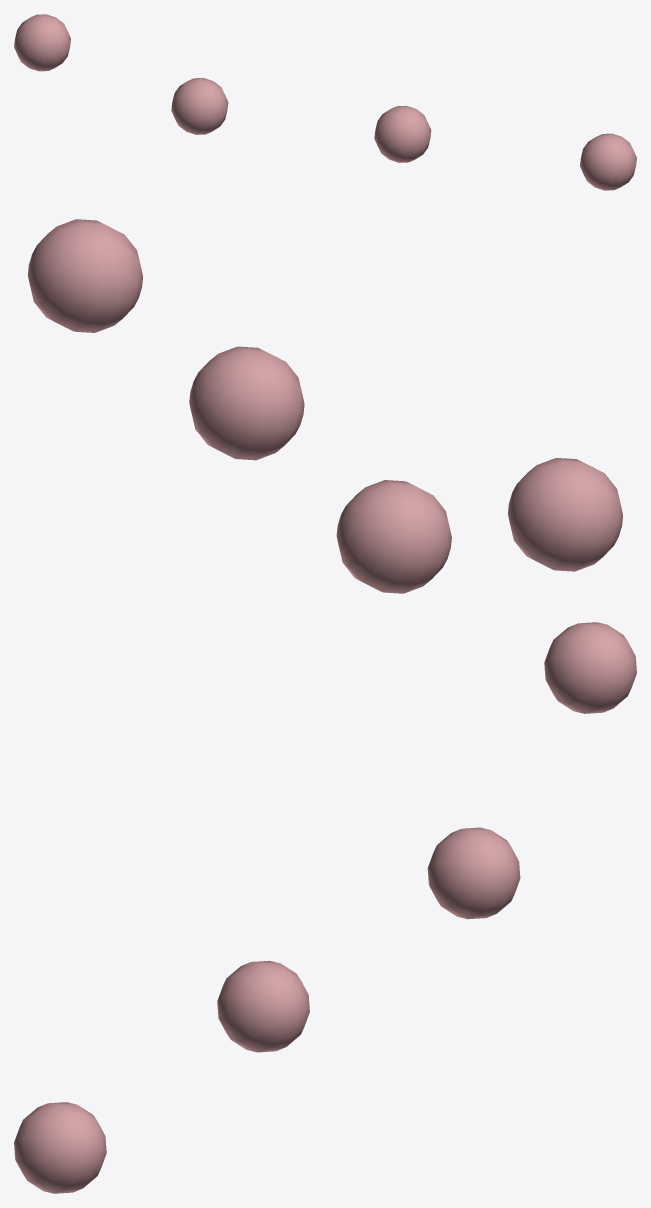
3 renders of one model, top to bottom at view 1: azimuth 30°, elevation 25°; view 2: azimuth 150°, elevation 25°; view 3: azimuth 270°, elevation 25°, orthographic. The views are drawn at different scales.
Visible parts, largest first — view 1: ZA_435509d1f661caf8; view 2: ZA_435509d1f661caf8; view 3: ZA_435509d1f661caf8.
Part boxes in pixels (bbox=[...]): ZA_435509d1f661caf8: bbox=[14, 14, 636, 190]; ZA_435509d1f661caf8: bbox=[28, 219, 622, 593]; ZA_435509d1f661caf8: bbox=[14, 622, 636, 1193].
Size of the model in its own units: 0.0235 by 0.00748 by 0.0172.
